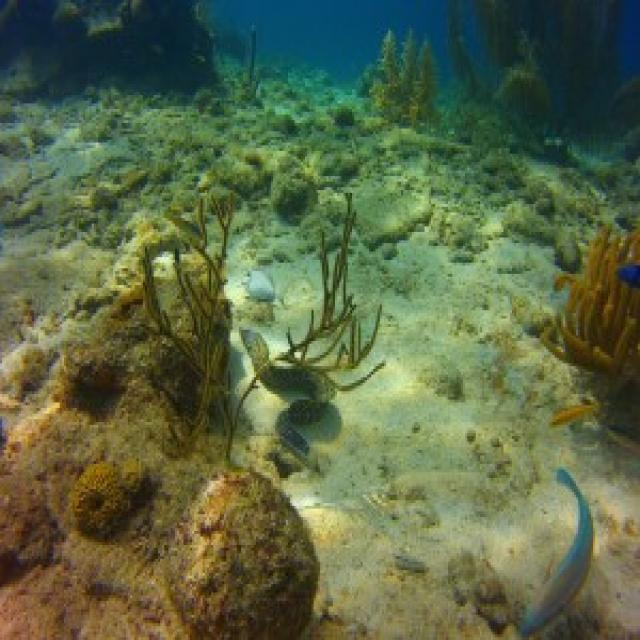Healthy: (227, 194, 383, 448), (172, 471, 319, 638), (142, 194, 234, 454), (541, 230, 639, 443), (56, 317, 135, 415), (74, 459, 157, 543)
